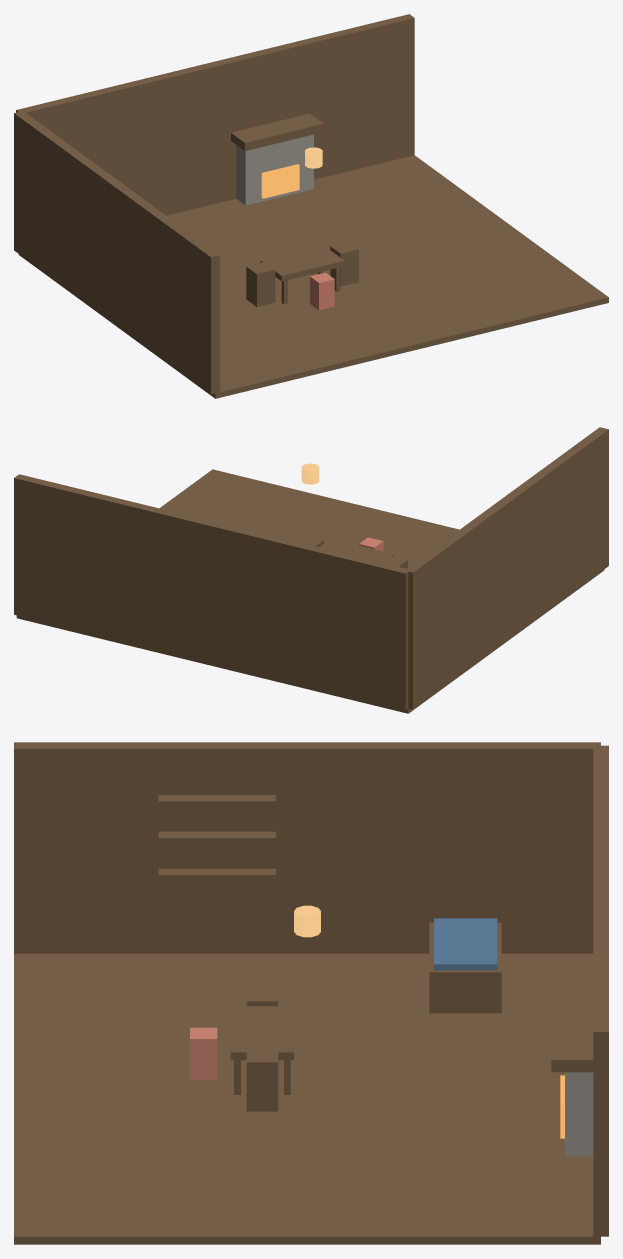
The picture shows the model from 3 angles, top to bottom: view 1: azimuth 30°, elevation 25°; view 2: azimuth 150°, elevation 25°; view 3: azimuth 270°, elevation 25°; orthographic projection. The views are drawn at different scales.
Visible parts, largest first — view 1: walk_floor, wall_back, wall_left, hearth, mantel, table_top, chair, fire_glow, chair.001, stool; view 2: wall_back, wall_left, walk_floor, table_top; view 3: walk_floor, wall_left, wall_back, bed, quilt, table_top, mantel, hearth, chair.001, shelf.001, shelf, shelf.002 (+2 smaller).
Boxes of the visible parts, x1,y1,x2,y2 form: walk_floor: [18, 155, 608, 398]; wall_back: [16, 14, 414, 215]; wall_left: [14, 112, 219, 394]; hearth: [236, 134, 313, 205]; mantel: [231, 113, 323, 151]; table_top: [260, 245, 344, 281]; chair: [246, 262, 275, 306]; fire_glow: [261, 164, 299, 198]; chair.001: [330, 241, 358, 286]; stool: [310, 272, 334, 310]; wall_back: [14, 474, 410, 710]; wall_left: [405, 427, 608, 709]; walk_floor: [16, 469, 604, 713]; table_top: [319, 539, 393, 562]; walk_floor: [14, 953, 600, 1244]; wall_left: [14, 742, 600, 953]; wall_back: [593, 745, 608, 1236]; bed: [429, 922, 501, 1013]; quilt: [434, 918, 497, 970]; table_top: [230, 1006, 293, 1060]; mantel: [551, 1002, 593, 1072]; hearth: [565, 1072, 593, 1156]; chair.001: [246, 1049, 278, 1111]; shelf.001: [158, 831, 275, 844]; shelf: [158, 868, 275, 880]; shelf.002: [158, 795, 275, 807].
Bounding box in the file's own units: 15.17 × 5.2 × 13.17.
